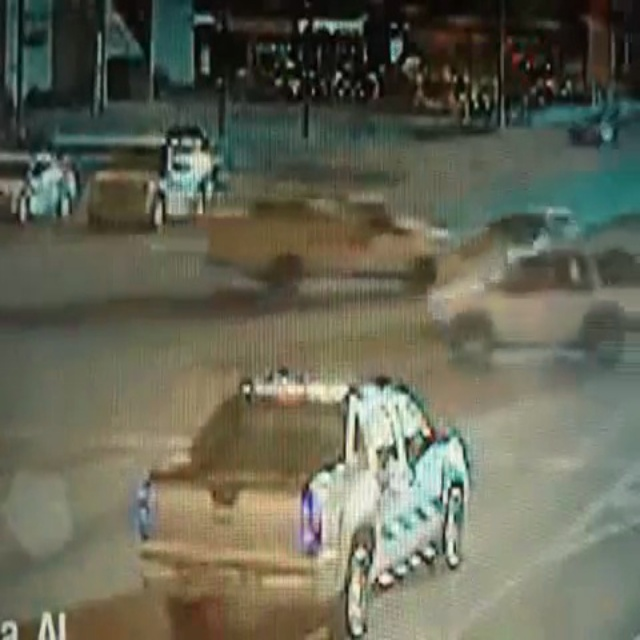acc: (189, 188, 638, 355)
